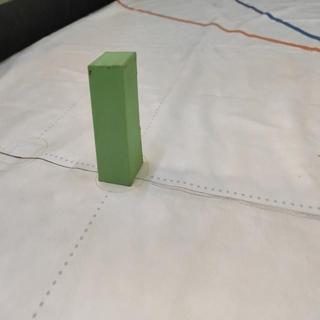greenbox: (88, 51, 143, 186)
